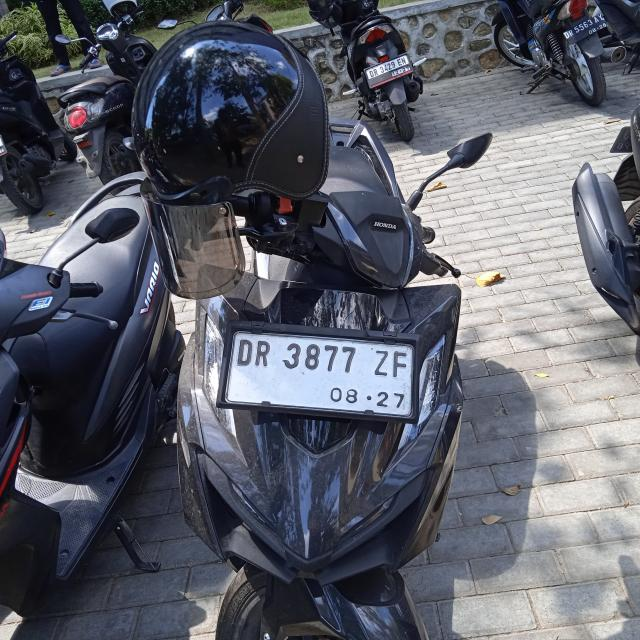plate: (226, 328, 416, 422), (362, 52, 415, 90), (563, 12, 610, 45)
